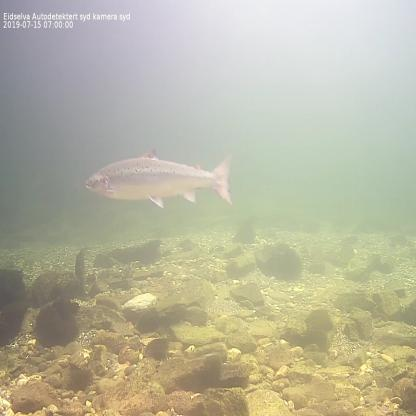salmon: (83, 143, 235, 214)
